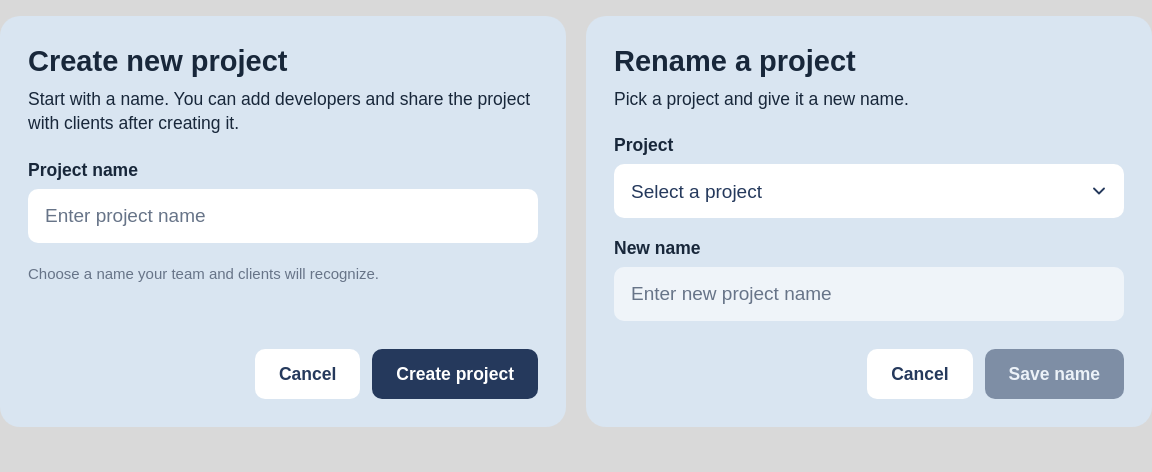
Test: Creating projects › shows a fallback error when creation fails without a message
The width and height of the screenshot is (1152, 472).
Type "New Project" into the field labelled "Project name". click: (283, 216)
box: [28,189,538,243]
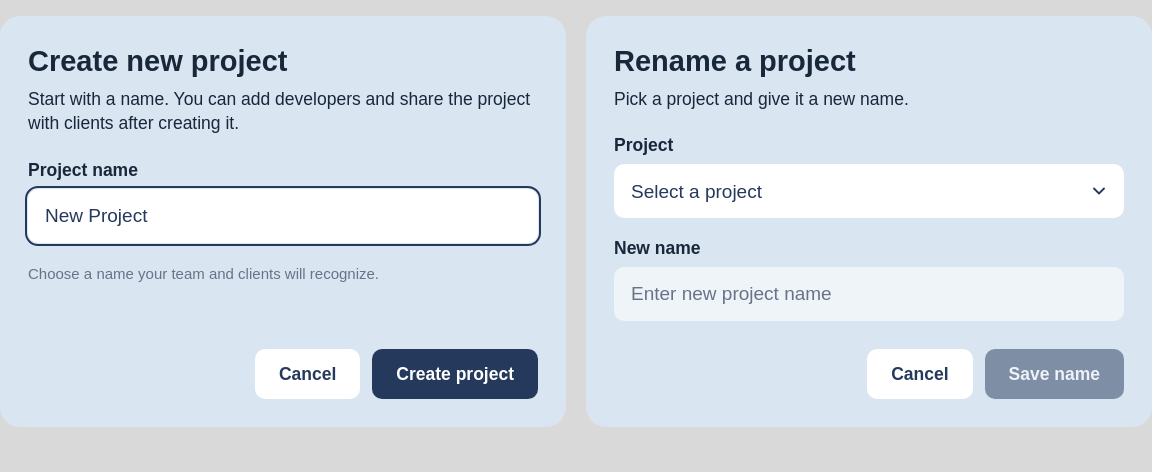
Click the button "Create project". click: (455, 374)
box: [372,349,538,399]
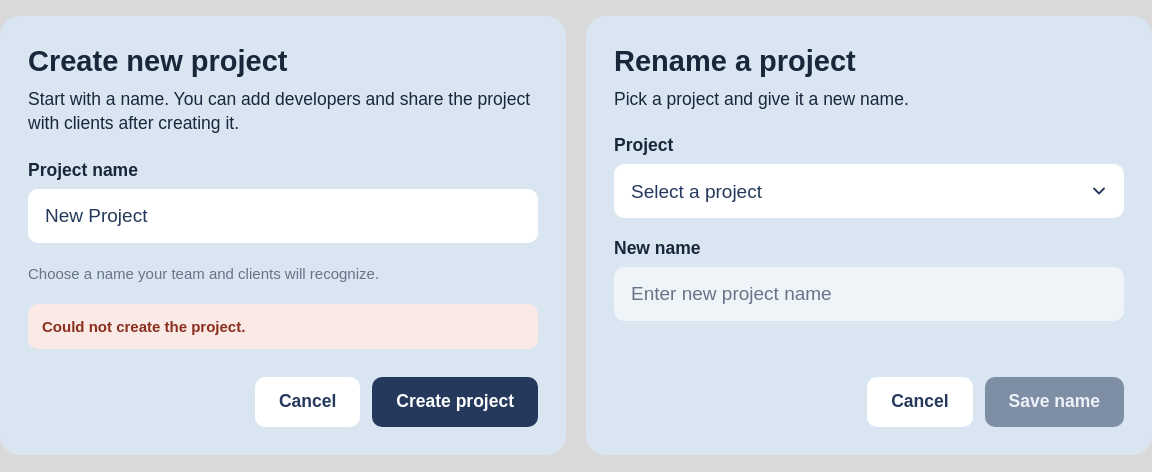
Result: the message reads "Could not create the project." at [42,318,245,335]
